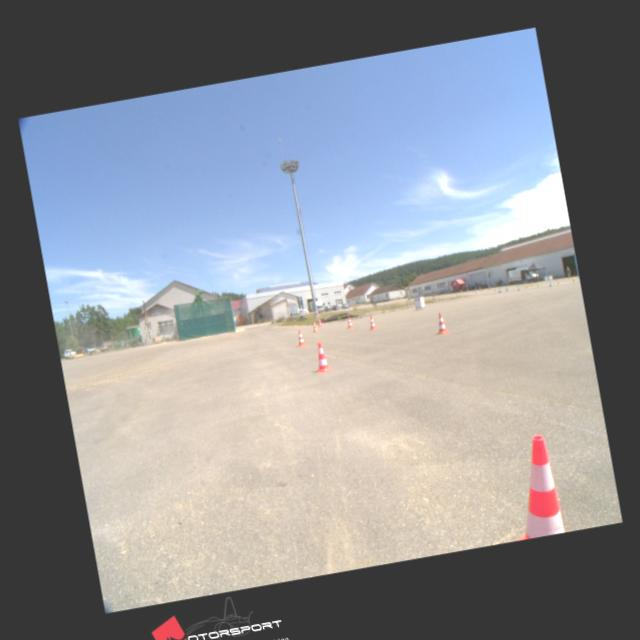large_orange_cone: (498, 433, 564, 540), (312, 342, 332, 372), (434, 310, 447, 332), (295, 328, 306, 346), (367, 314, 376, 328), (311, 320, 318, 332), (346, 316, 352, 328), (316, 316, 322, 326)
